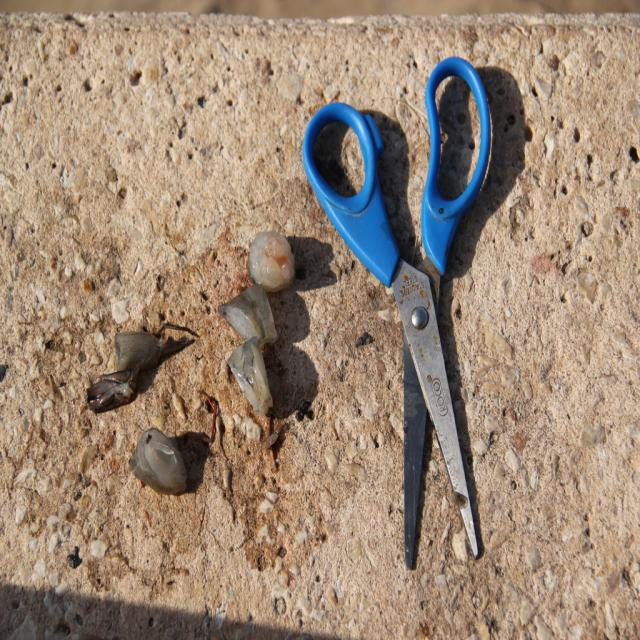scissors: (301, 55, 492, 569)
